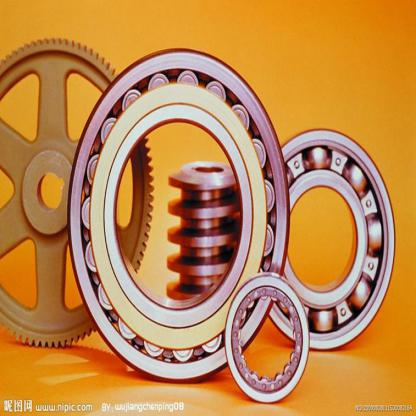FOD: (65, 40, 293, 388), (0, 33, 156, 350), (278, 124, 398, 354), (223, 276, 312, 401)
